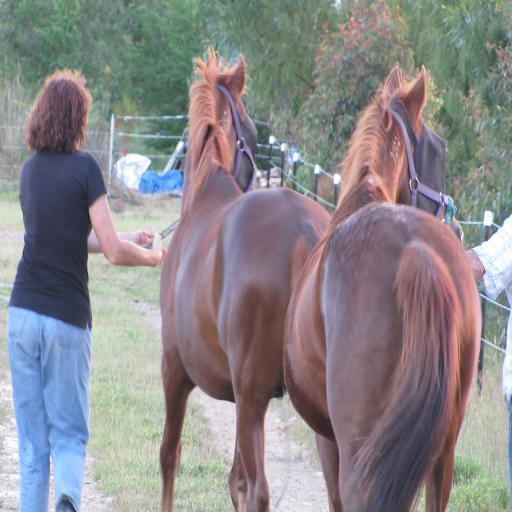horse: (282, 64, 482, 512), (159, 48, 331, 512)
